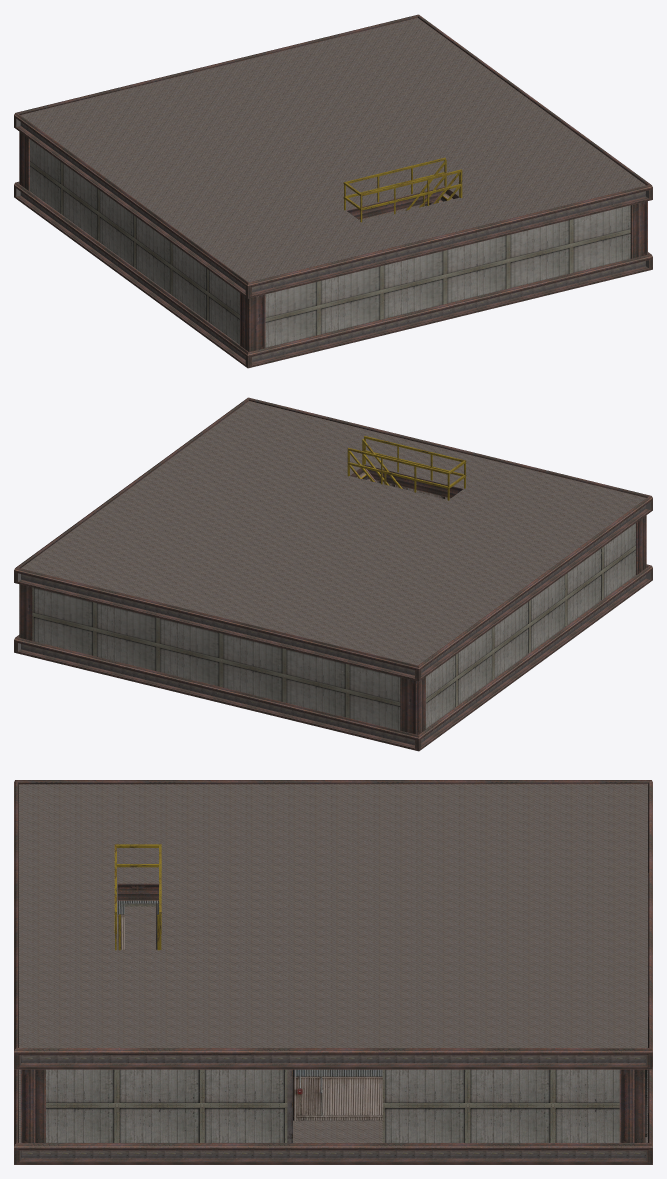
File: OPLT01B.glb
The picture shows the model from 3 angles, top to bottom: view 1: azimuth 30°, elevation 25°; view 2: azimuth 150°, elevation 25°; view 3: azimuth 270°, elevation 25°; orthographic projection. The views are drawn at different scales.
Visible parts, largest first — view 1: _OPLT01B; view 2: _OPLT01B; view 3: _OPLT01B.
Boxes of the visible parts, x1=… form: _OPLT01B: x1=14, y1=14, x2=652, y2=368; _OPLT01B: x1=14, y1=397, x2=652, y2=751; _OPLT01B: x1=14, y1=780, x2=652, y2=1164.
Size of the model in its own units: 25 by 6.49 by 25.
11 materials, 11 textured.
